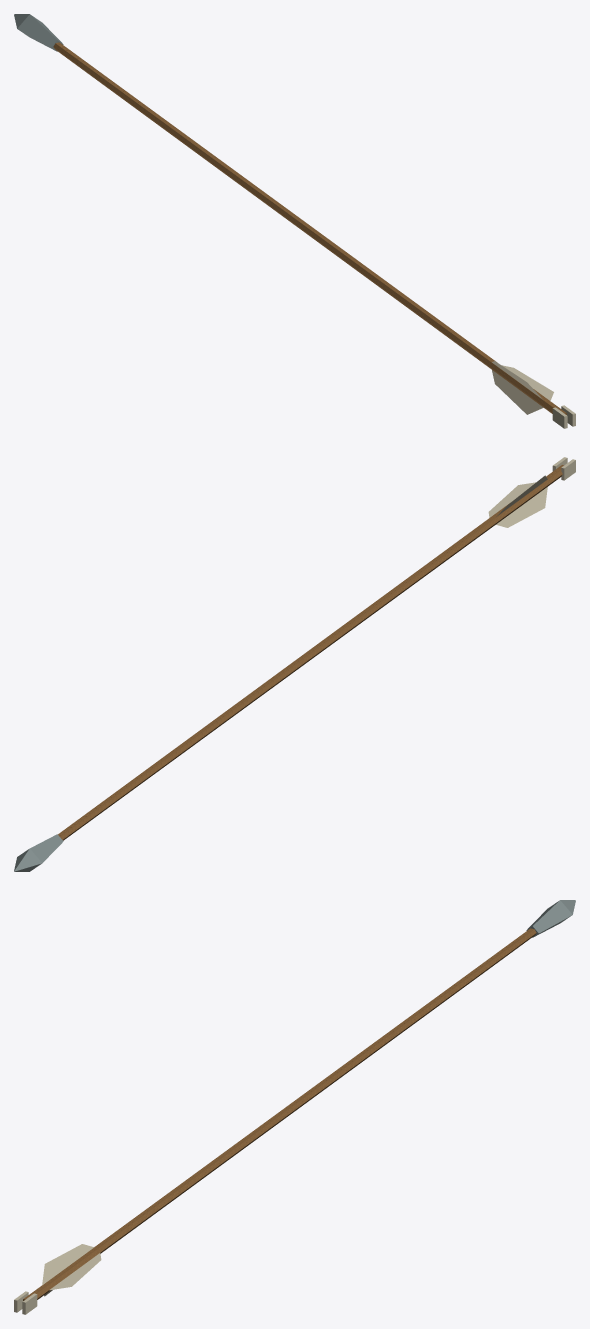
Rendered from la-arrow-v261.glb.
3 renders of one model, top to bottom at view 1: azimuth 30°, elevation 25°; view 2: azimuth 150°, elevation 25°; view 3: azimuth 330°, elevation 25°, orthographic.
Visible parts, largest first — view 1: la-arrow-v261; view 2: la-arrow-v261; view 3: la-arrow-v261.
Boxes of the visible parts, x1,y1,x2,y2 form: la-arrow-v261: (14, 14, 575, 428); la-arrow-v261: (14, 457, 575, 871); la-arrow-v261: (14, 900, 575, 1314).
Size of the model in its own units: 0.029 by 0.0294 by 0.9075.
3 materials, 1 textured.
